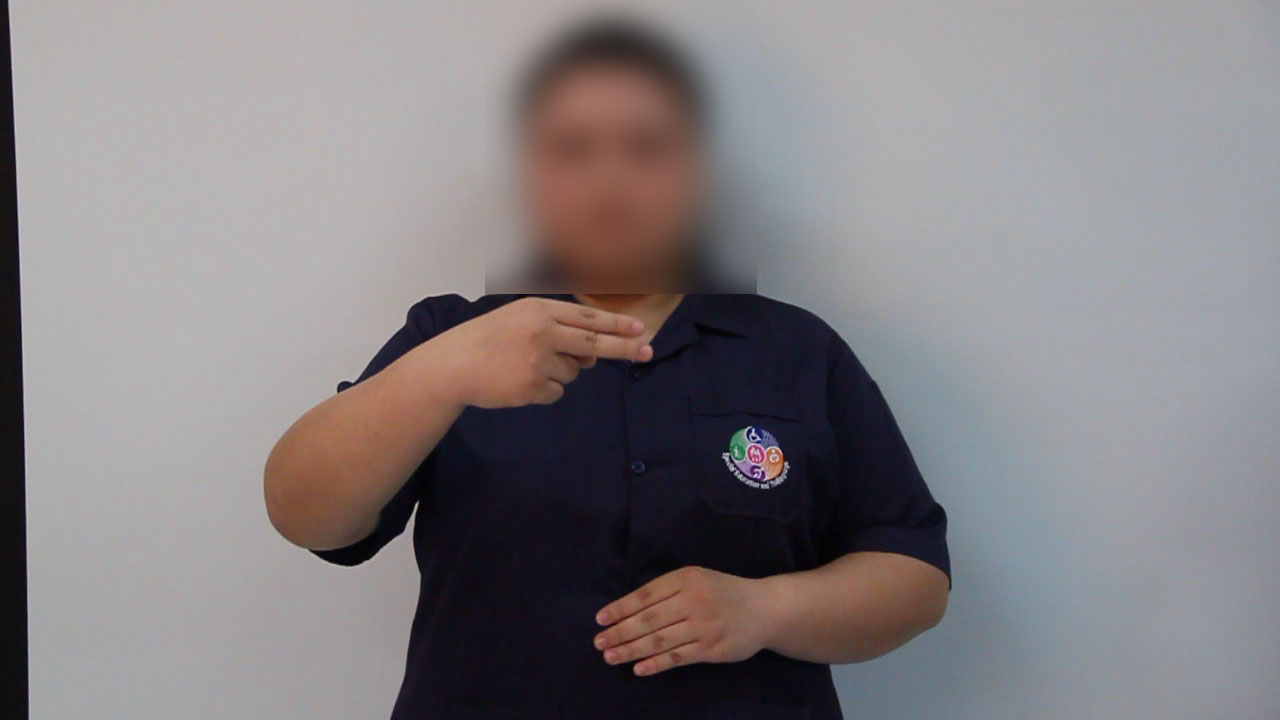hor: (418, 290, 668, 423)
